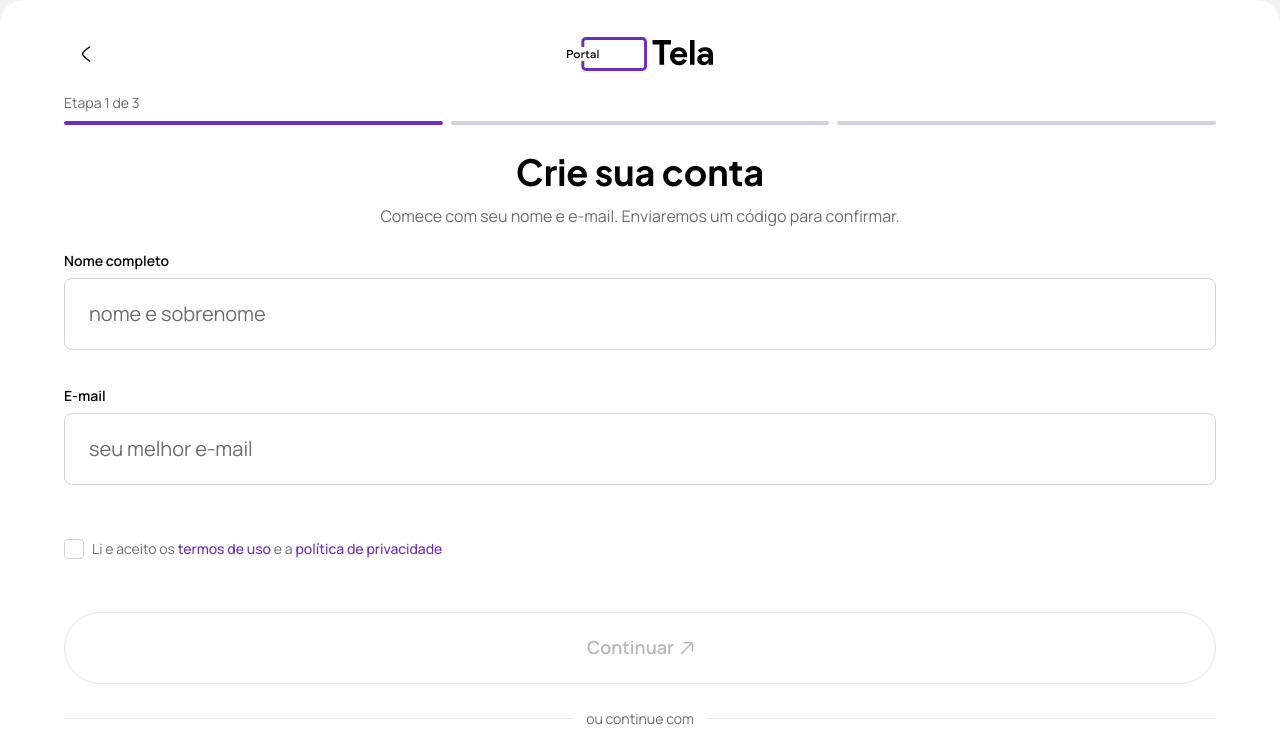
Test: SignUpPage › clicar em Continuar vazio mostra todos os erros de uma vez e foca o primeiro campo
Step 1. Click the button "Continuar" → (640, 648), box [64,612,1216,684]
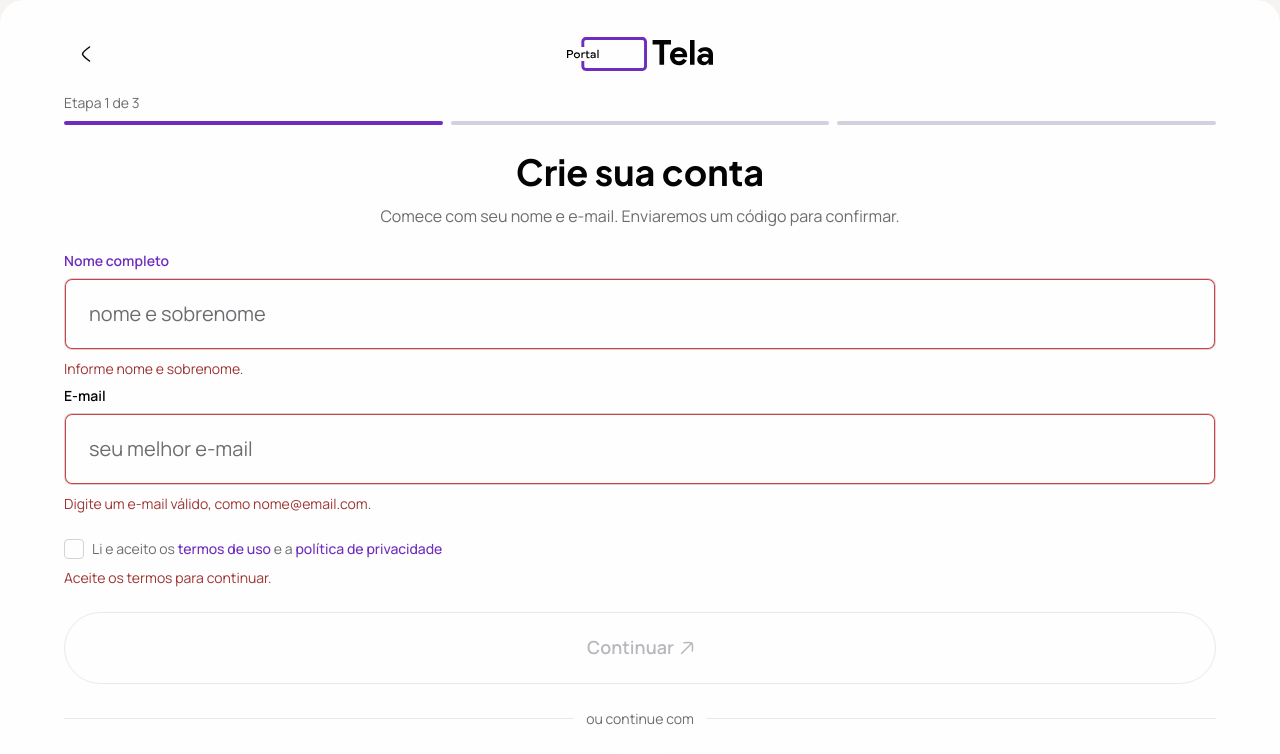
Expected: the text "Informe nome e sobrenome." is shown, [64,359,243,378]
Expected: the text "Digite um e-mail válido, como nome@email.com." is shown, [64,494,371,513]
Expected: the text "Aceite os termos para continuar." is shown, [64,568,272,587]
